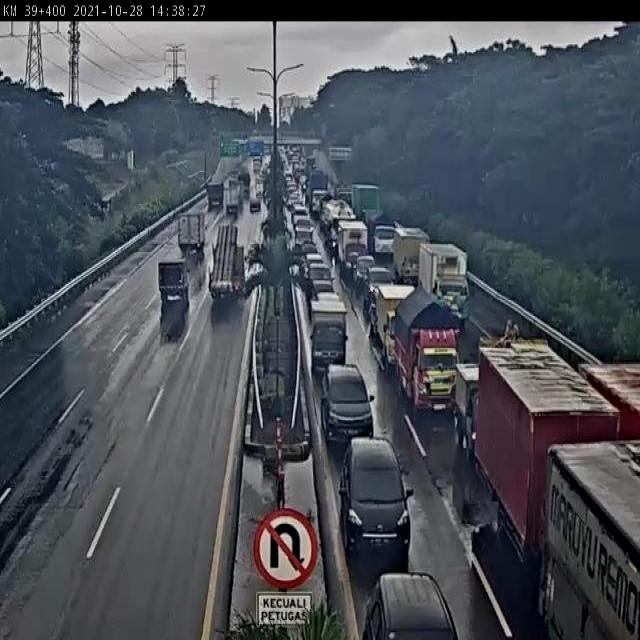Bus: (252, 154, 263, 172)
Car: (338, 436, 412, 568), (360, 570, 459, 638), (320, 362, 374, 447), (364, 266, 395, 312), (305, 261, 336, 293), (355, 251, 376, 287), (313, 289, 342, 304), (303, 252, 325, 270), (294, 219, 314, 236), (248, 196, 262, 214)
Truck: (472, 339, 624, 565), (540, 442, 638, 638), (393, 285, 460, 419), (575, 358, 640, 442), (416, 239, 472, 325), (368, 283, 416, 379), (207, 225, 244, 310), (309, 298, 349, 372), (157, 260, 189, 339), (454, 360, 480, 456), (392, 225, 431, 284), (336, 220, 368, 279), (367, 206, 397, 259), (322, 198, 355, 244), (177, 212, 205, 260), (352, 183, 382, 226), (308, 170, 328, 215), (225, 178, 243, 216), (206, 180, 223, 212), (237, 170, 251, 198)
Van: (254, 178, 265, 198)
